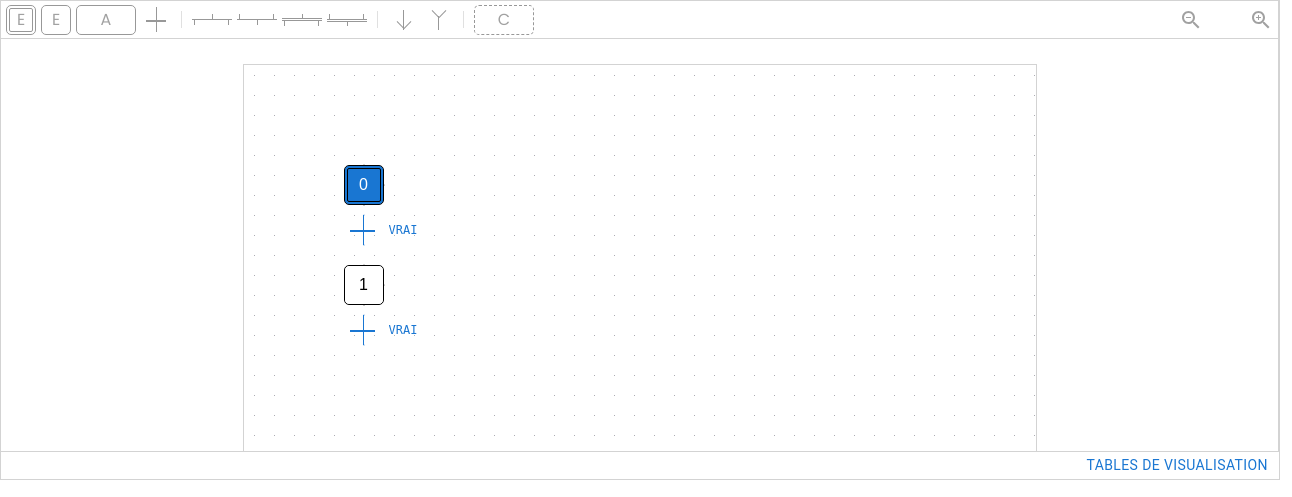
Test case: EmbeddedApp › watch panel › opens from the status bar, and closes with its own button
The width and height of the screenshot is (1292, 497).
Click the button "Tables de visualisation" at (1177, 466), box [1083,452,1271,479]
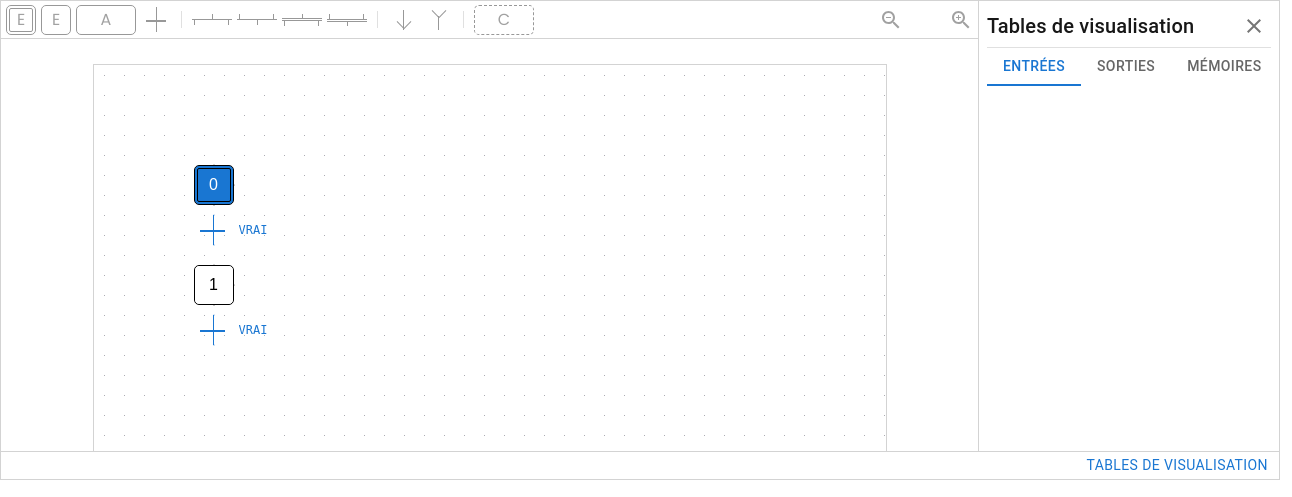
Check: the element with test id "embedded-watch-panel" is shown, box [979,1,1279,451]
Click the button named "close-watch-tables" at (1254, 26), box [1237,9,1271,43]
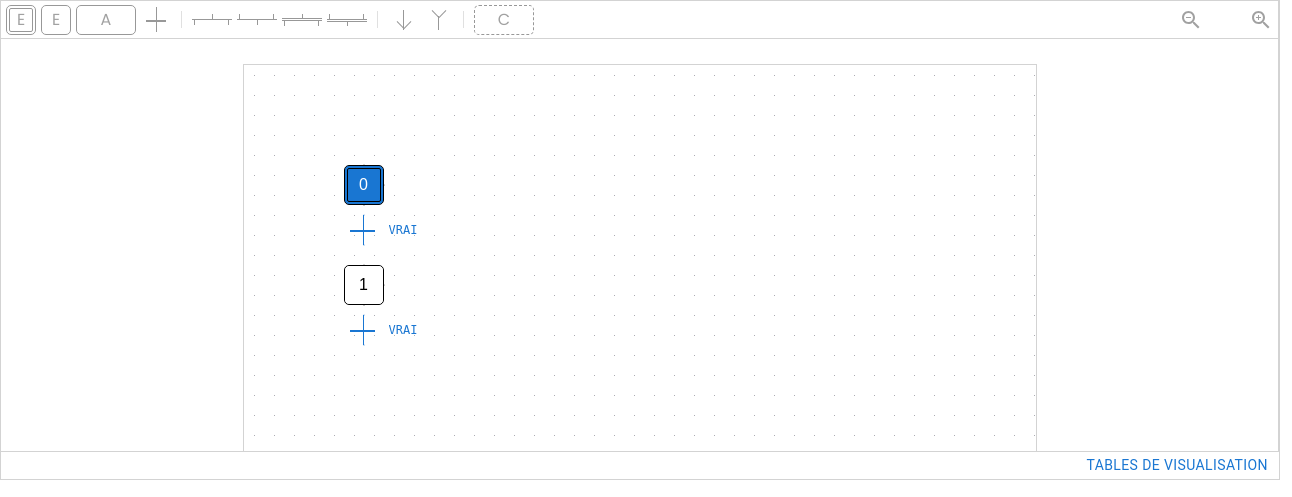
Check: the element with test id "embedded-watch-panel" is gone
